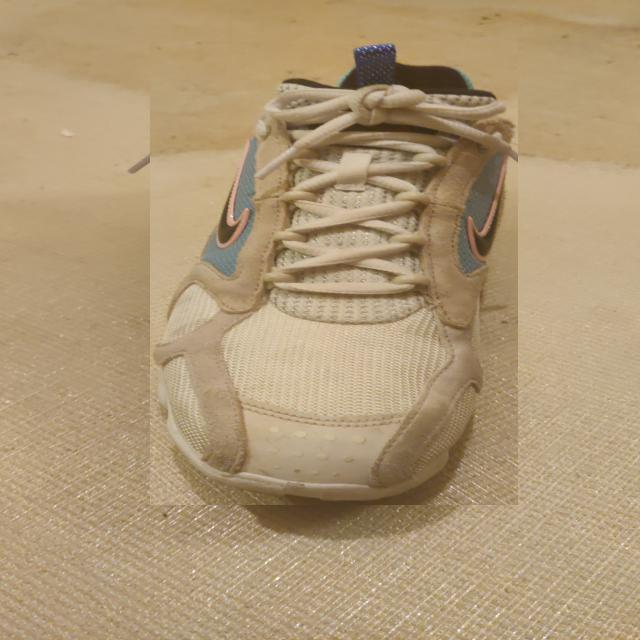shoes: (150, 41, 518, 505)
